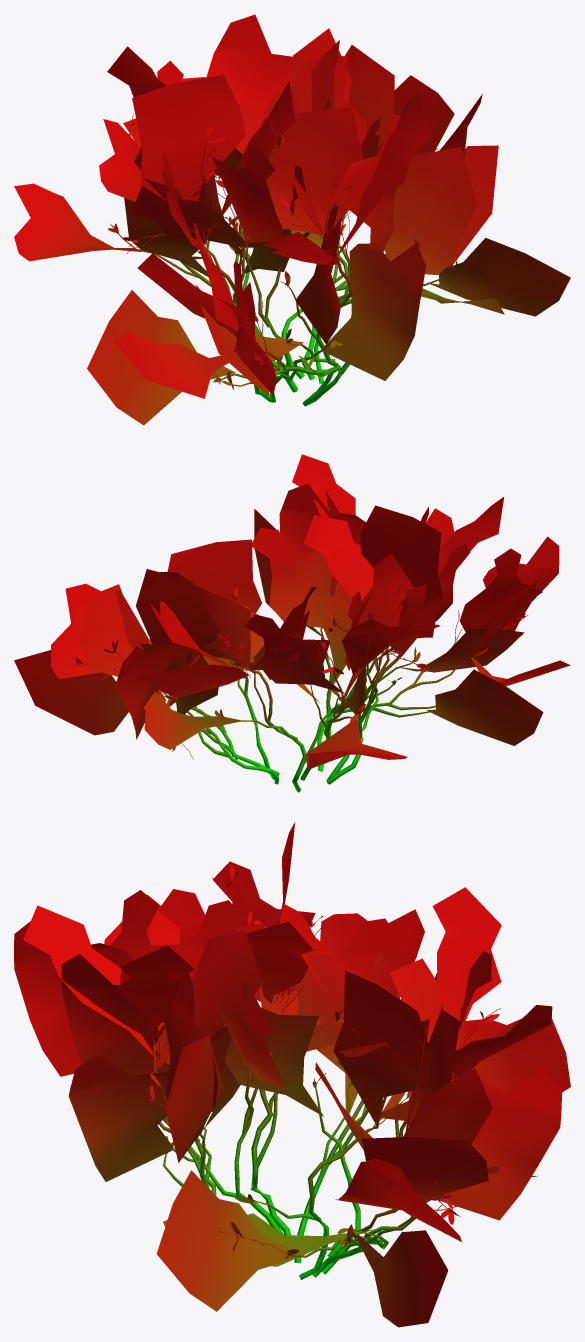
File: Downy Willow_LOD5_Var3_wknlfiuqx.fbx
The picture shows the model from 3 angles, top to bottom: view 1: azimuth 30°, elevation 25°; view 2: azimuth 150°, elevation 25°; view 3: azimuth 270°, elevation 25°; orthographic projection. The views are drawn at different scales.
Visible parts, largest first — view 1: _qplc_Var3_LOD5; view 2: _qplc_Var3_LOD5; view 3: _qplc_Var3_LOD5.
Boxes of the visible parts, left/top/right/bottom form: _qplc_Var3_LOD5: left=14, top=14, right=570, bottom=425; _qplc_Var3_LOD5: left=14, top=454, right=570, bottom=792; _qplc_Var3_LOD5: left=14, top=822, right=570, bottom=1327.
Bounding box in the file's own units: 187 × 118 × 162.
